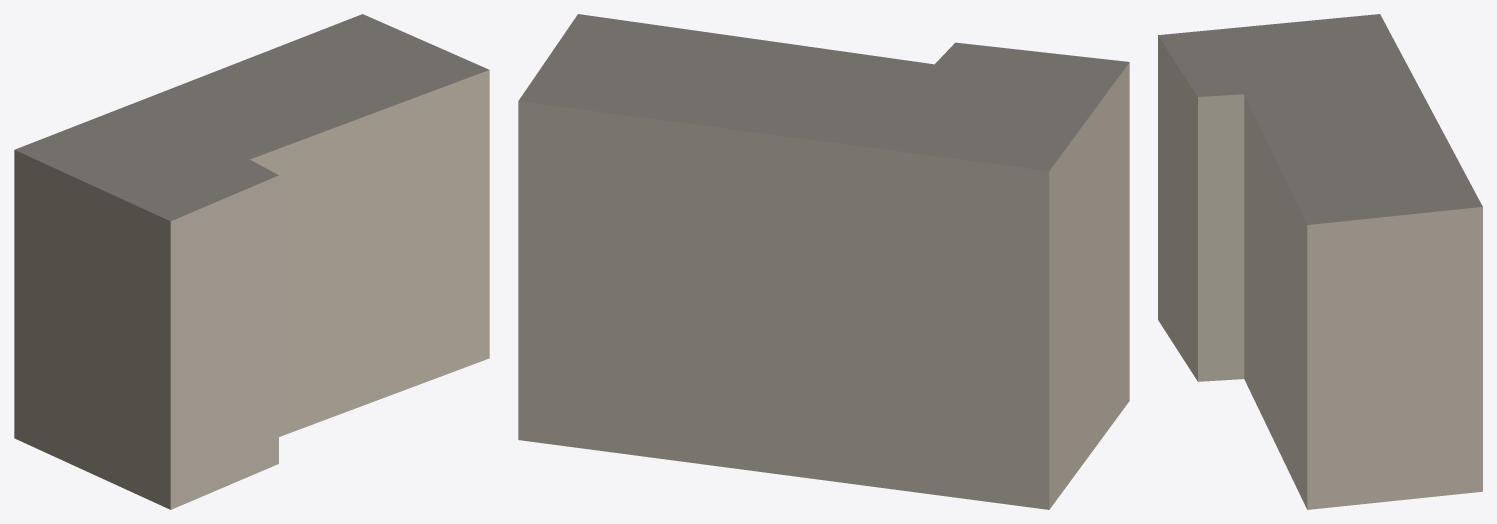
3 views of the same model, side by side, from view 1: azimuth 30°, elevation 25°; view 2: azimuth 150°, elevation 25°; view 3: azimuth 270°, elevation 25° (orthographic). The views are drawn at different scales.
Parts seen in each view (by area): view 1: HP-w702173894; view 2: HP-w702173894; view 3: HP-w702173894.
Part boxes in pixels (left/top/right/bottom): HP-w702173894: left=14, top=14, right=489, bottom=509; HP-w702173894: left=518, top=14, right=1129, bottom=509; HP-w702173894: left=1158, top=14, right=1482, bottom=509.
Size of the model in its own units: 28.61 by 18 by 18.6.
